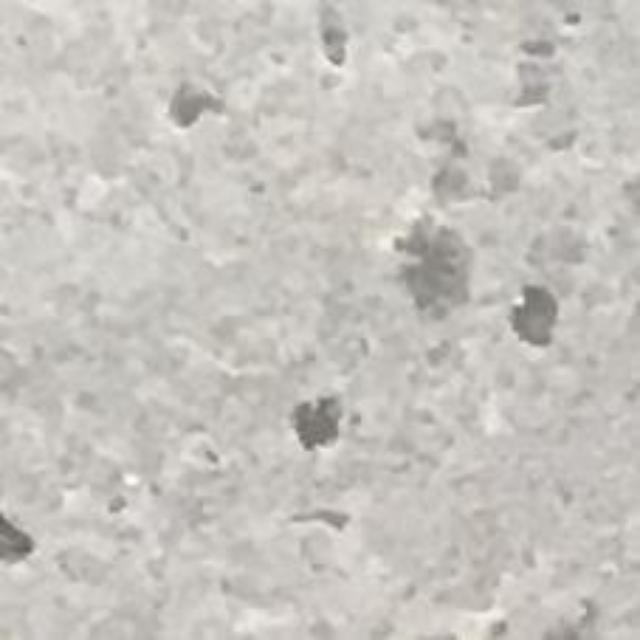peeling plaster: (392, 96, 524, 318)
